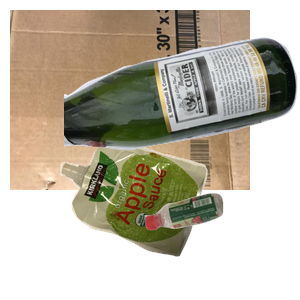cardboard: (10, 10, 250, 190)
glass: (64, 35, 300, 181)
plastic: (142, 191, 300, 300)
trash: (57, 137, 257, 300)
